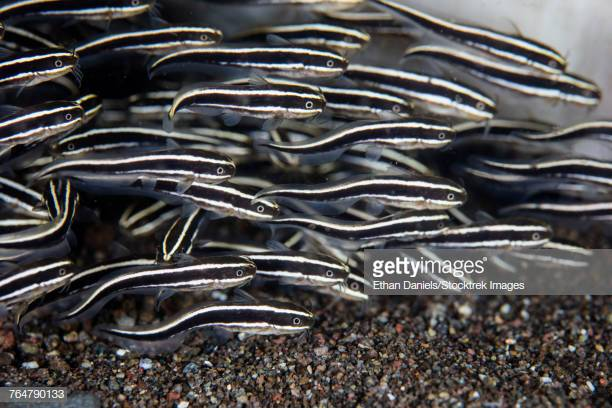gonzui: (107, 293, 319, 366), (249, 175, 480, 217), (34, 148, 243, 193), (155, 49, 350, 78), (163, 89, 332, 117)
